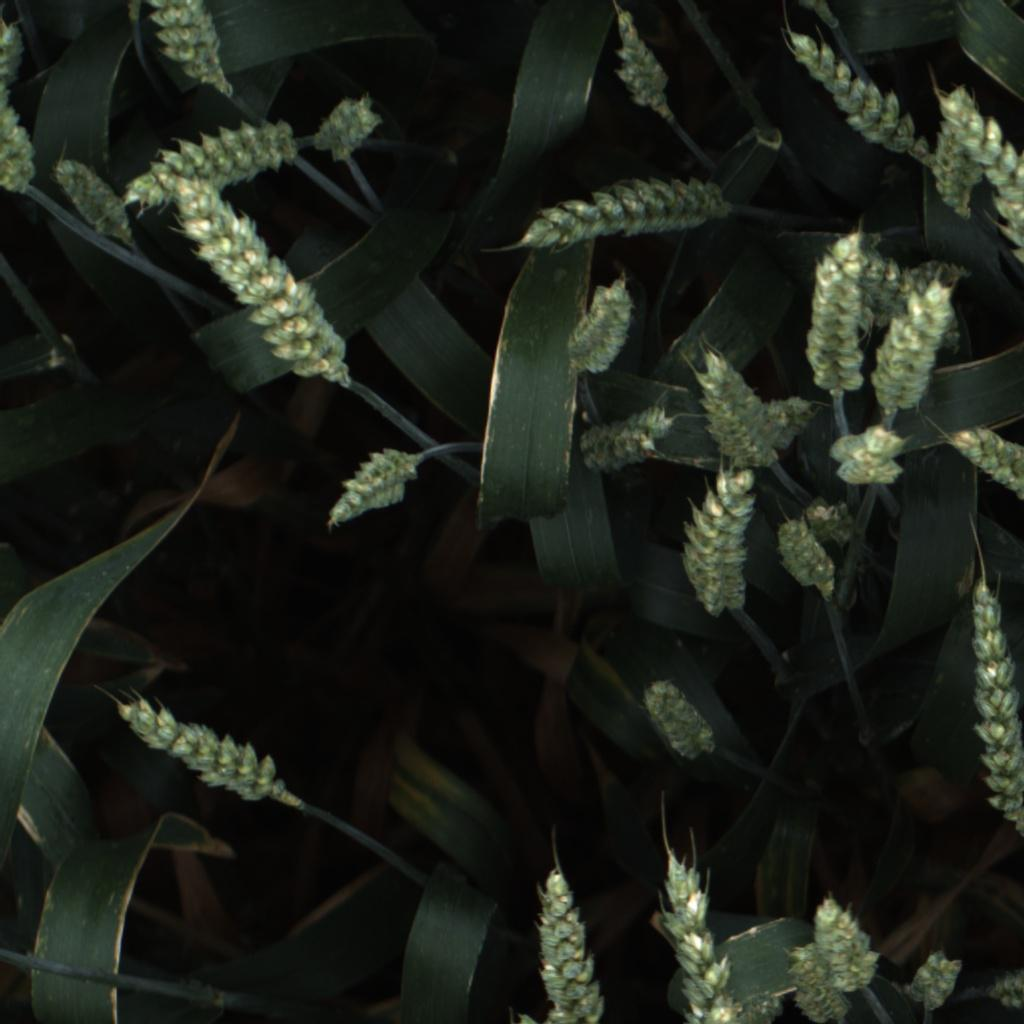0-0: (174, 182, 359, 396), (779, 21, 931, 165), (117, 691, 288, 816), (121, 114, 299, 217), (954, 573, 1022, 841), (515, 172, 731, 256), (649, 845, 736, 1009), (677, 466, 769, 618), (528, 860, 610, 1024), (802, 221, 878, 396), (863, 279, 960, 415), (683, 346, 783, 471), (855, 247, 964, 357), (318, 442, 424, 540), (133, 2, 241, 98), (962, 110, 1024, 260), (600, 9, 686, 115), (637, 668, 722, 773), (561, 277, 646, 381), (813, 885, 890, 995), (919, 81, 981, 217), (54, 150, 137, 251), (571, 403, 679, 476), (875, 253, 971, 332), (769, 939, 854, 1024), (945, 425, 1024, 508), (772, 516, 849, 600), (310, 87, 388, 166), (791, 486, 873, 558), (822, 423, 908, 491), (0, 89, 42, 198), (904, 949, 969, 1019), (676, 985, 775, 1024), (760, 392, 813, 452), (0, 14, 34, 89), (991, 945, 1024, 1018)
